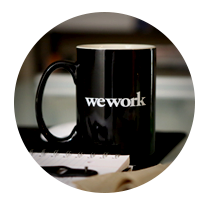wework: (83, 90, 147, 108)
